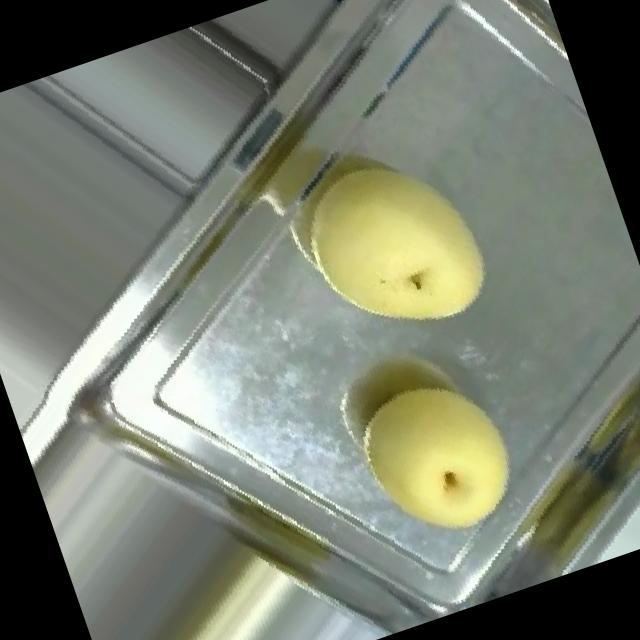Fruit: (260, 104, 530, 378), (327, 344, 552, 572)
